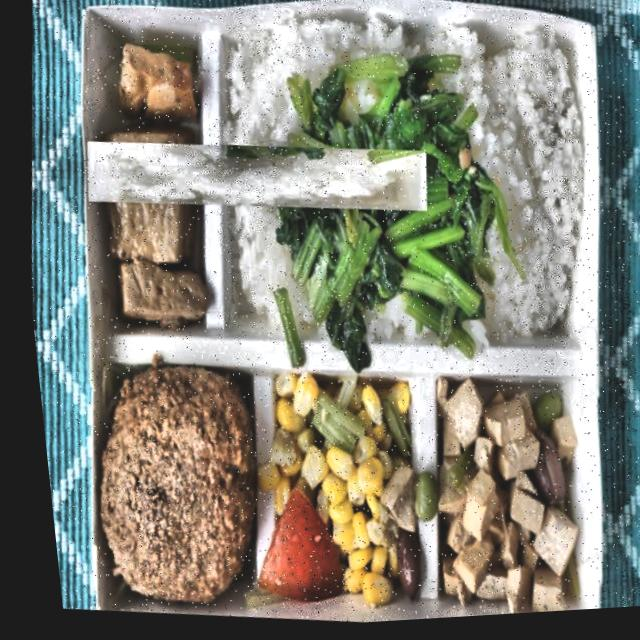Food: (438, 22, 611, 364), (131, 62, 373, 295)
